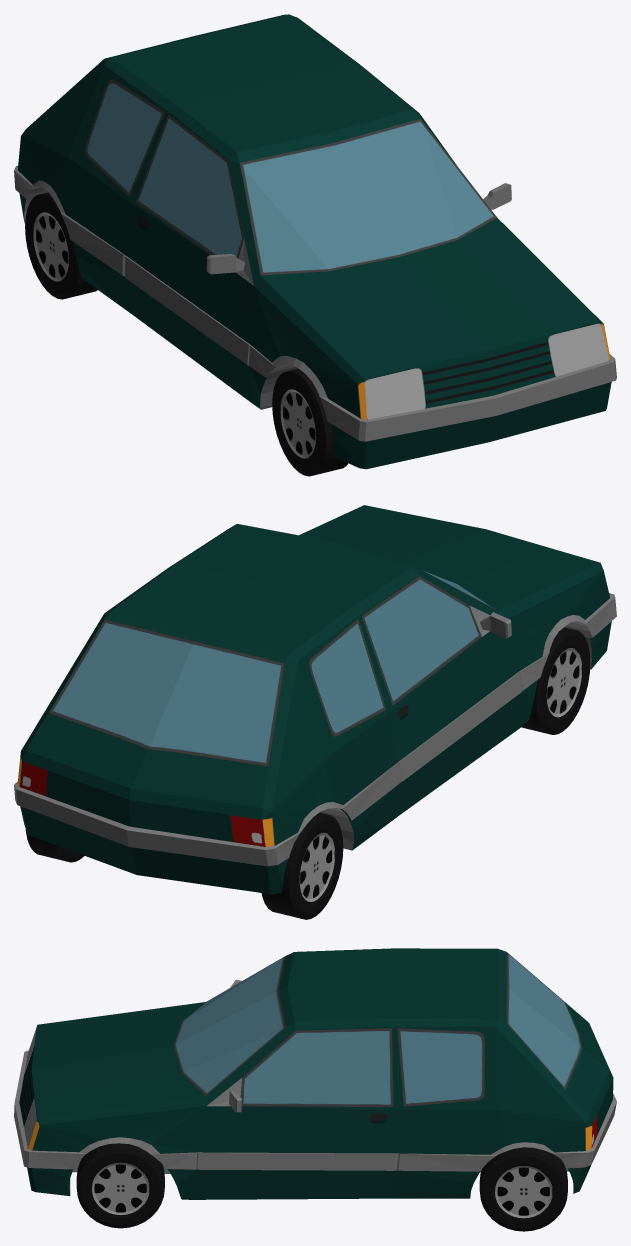
File: car 2.fbx
The picture shows the model from 3 angles, top to bottom: view 1: azimuth 30°, elevation 25°; view 2: azimuth 150°, elevation 25°; view 3: azimuth 270°, elevation 25°; orthographic projection. The views are drawn at different scales.
Visible parts, largest first — view 1: Chasis, FR, RR; view 2: Chasis, RR, FR, RL; view 3: Chasis, FL, RL.
Boxes of the visible parts, x1,y1,x2,y2 form: Chasis: (14,14,616,469); FR: (272,368,348,476); RR: (25,192,97,299); Chasis: (14,505,616,894); RR: (261,812,343,919); FR: (521,627,590,734); RL: (25,829,84,862); Chasis: (14,948,616,1199); FL: (76,1143,164,1228); RL: (479,1147,567,1231).
Bounding box in the file's own units: 179 × 136 × 377.
